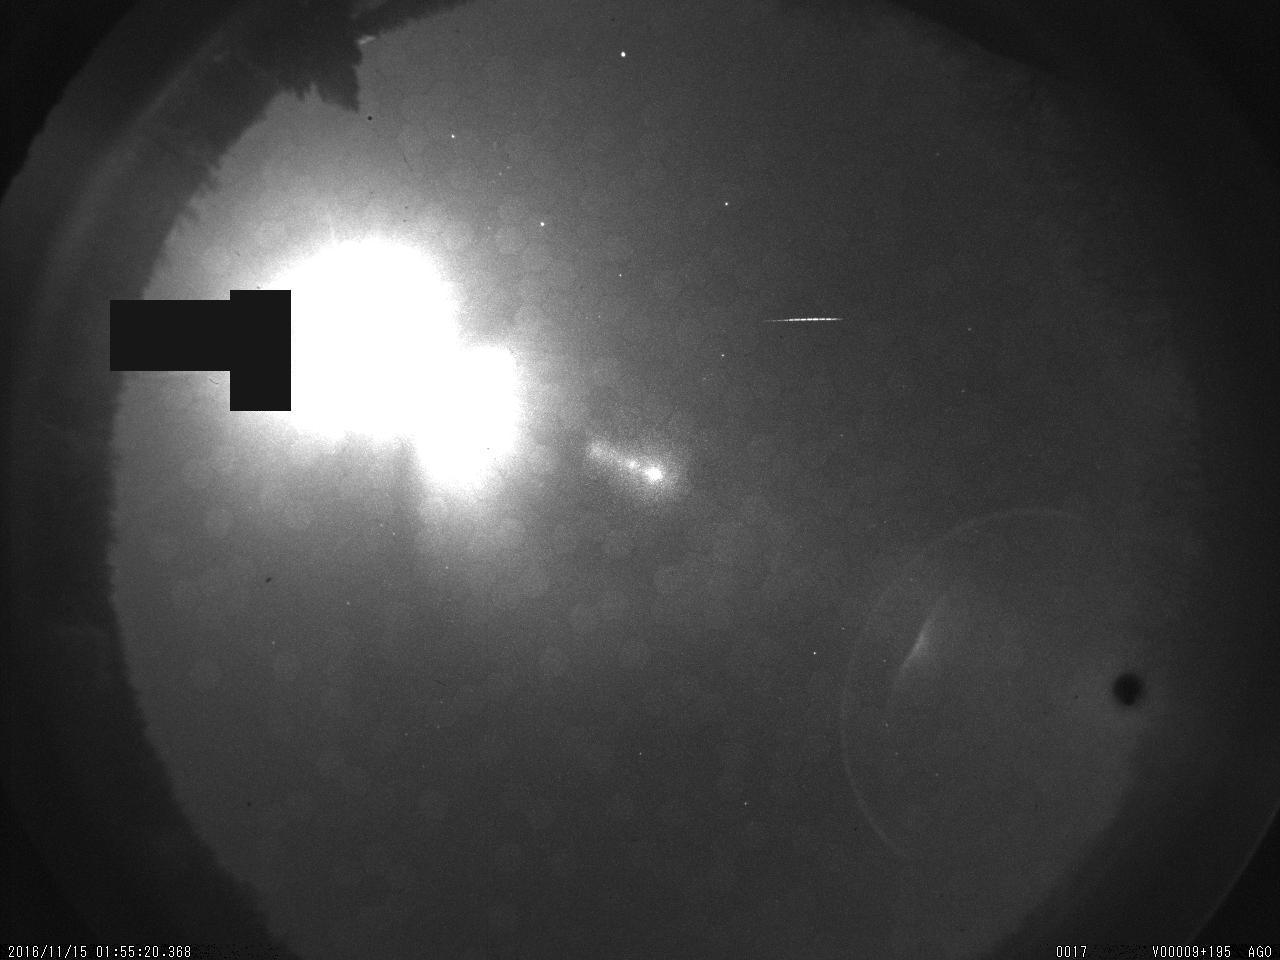Meteor: (752, 306, 852, 332)
